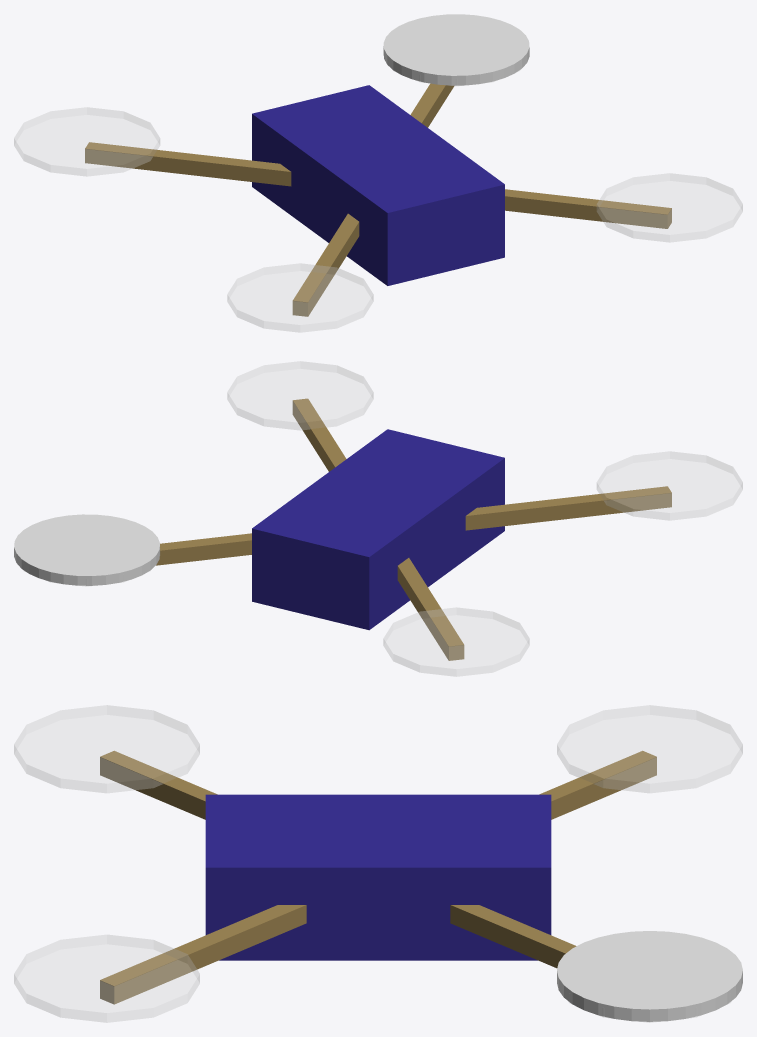
Rendered from quadrotor.dae.
The picture shows the model from 3 angles, top to bottom: view 1: azimuth 30°, elevation 25°; view 2: azimuth 150°, elevation 25°; view 3: azimuth 270°, elevation 25°; orthographic projection. The views are drawn at different scales.
Parts seen in each view (by area): view 1: Cube, Circle, Cube.001, Circle.006, Circle.004, Circle.005, Cube.002; view 2: Cube, Circle, Circle.005, Circle.004, Circle.006, Cube.002, Cube.001; view 3: Cube, Circle, Circle.004, Circle.006, Circle.005, Cube.001, Cube.002.
Boxes of the visible parts, x1,y1,x2,y2 form: Cube: (252, 85, 504, 285); Circle: (383, 14, 529, 85); Cube.001: (85, 142, 671, 228); Circle.006: (227, 263, 373, 332); Circle.004: (597, 173, 742, 242); Circle.005: (14, 107, 159, 176); Cube.002: (292, 83, 454, 316); Cube: (252, 429, 504, 630); Circle: (14, 514, 159, 585); Circle.005: (383, 607, 529, 676); Circle.004: (227, 361, 373, 430); Circle.006: (597, 451, 742, 520); Cube.002: (156, 486, 671, 565); Cube.001: (292, 398, 464, 660); Cube: (205, 794, 551, 960); Circle: (557, 931, 742, 1021); Circle.004: (14, 935, 199, 1022); Circle.006: (14, 705, 199, 792); Circle.005: (557, 705, 742, 792); Cube.001: (100, 750, 656, 1004); Cube.002: (100, 750, 576, 968).
Size of the model in its own units: 0.3133 by 0.3133 by 0.0441.
